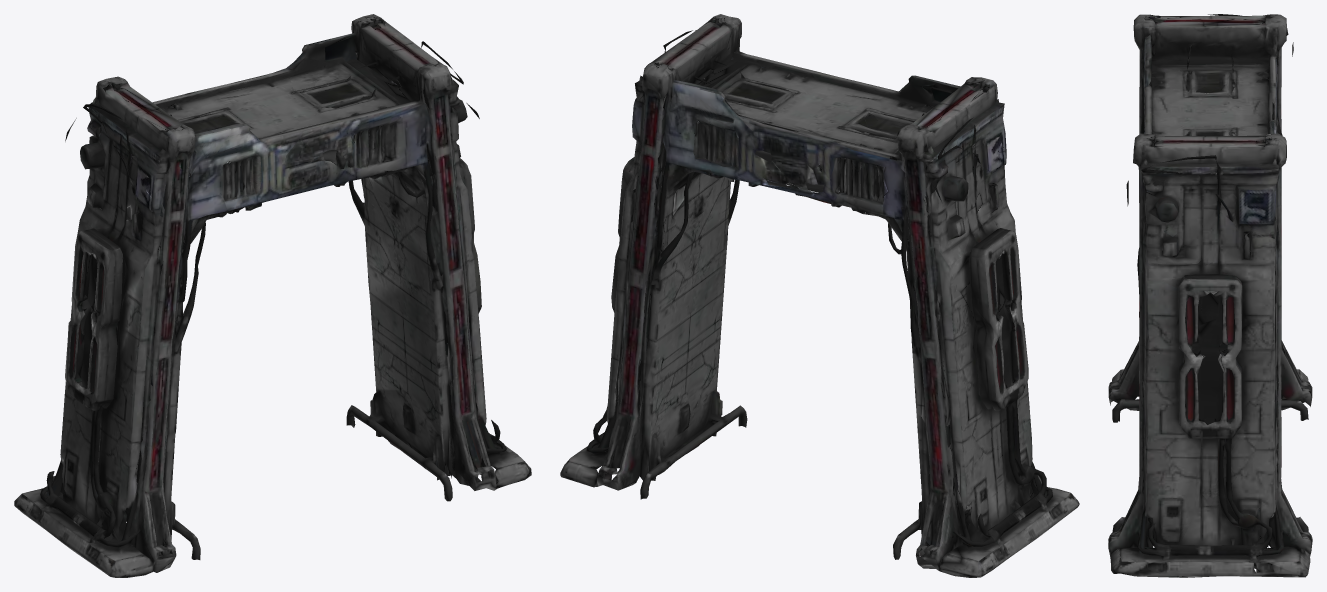
File: lm_gate.glb
The picture shows the model from 3 angles, left to right: view 1: azimuth 30°, elevation 25°; view 2: azimuth 150°, elevation 25°; view 3: azimuth 270°, elevation 25°; orthographic projection. The views are drawn at different scales.
Parts seen in each view (by area): view 1: geometry_0; view 2: geometry_0; view 3: geometry_0.
Boxes of the visible parts, left/top/right/bottom form: geometry_0: left=14, top=14, right=531, bottom=577; geometry_0: left=560, top=14, right=1079, bottom=577; geometry_0: left=1108, top=14, right=1312, bottom=577.
Bounding box in the file's own units: 1 × 0.9542 × 0.4358.
1 material, 1 textured.
